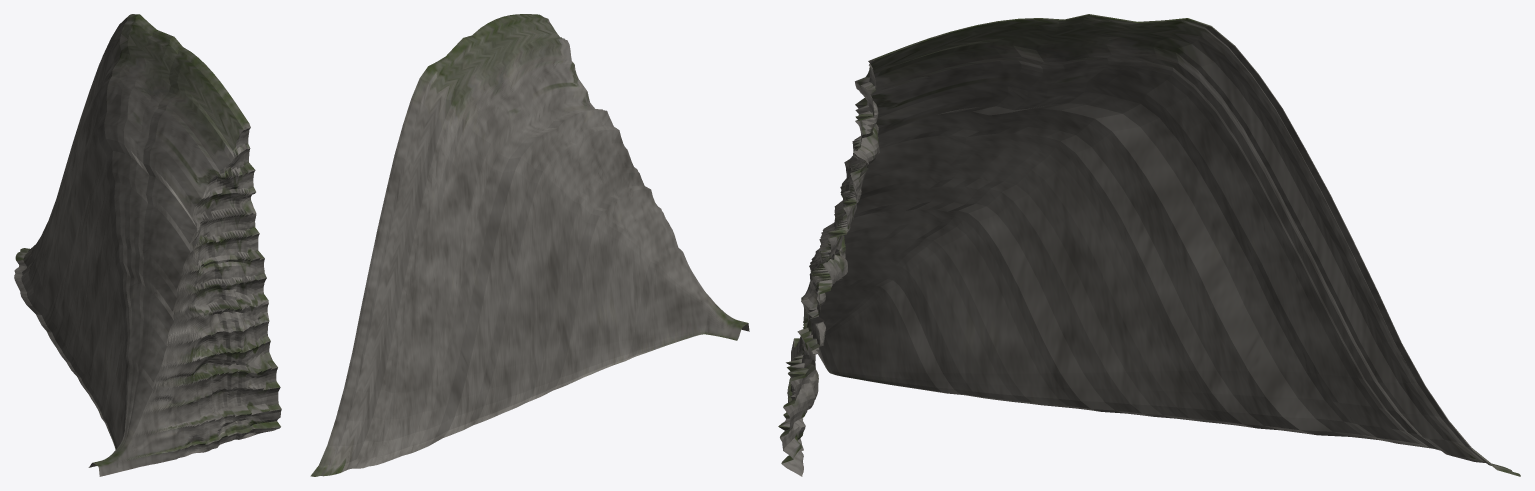
File: SM_cliff_end_l.fbx
3 renders of one model, left to right at view 1: azimuth 30°, elevation 25°; view 2: azimuth 150°, elevation 25°; view 3: azimuth 270°, elevation 25°, orthographic. The views are drawn at different scales.
Parts seen in each view (by area): view 1: SM_cliff_end_l; view 2: SM_cliff_end_l; view 3: SM_cliff_end_l.
Boxes of the visible parts, x1,y1,x2,y2 form: SM_cliff_end_l: (14, 14, 281, 476); SM_cliff_end_l: (310, 14, 749, 476); SM_cliff_end_l: (778, 14, 1520, 476).
Bounding box in the file's own units: 16 × 27.54 × 40.12.
